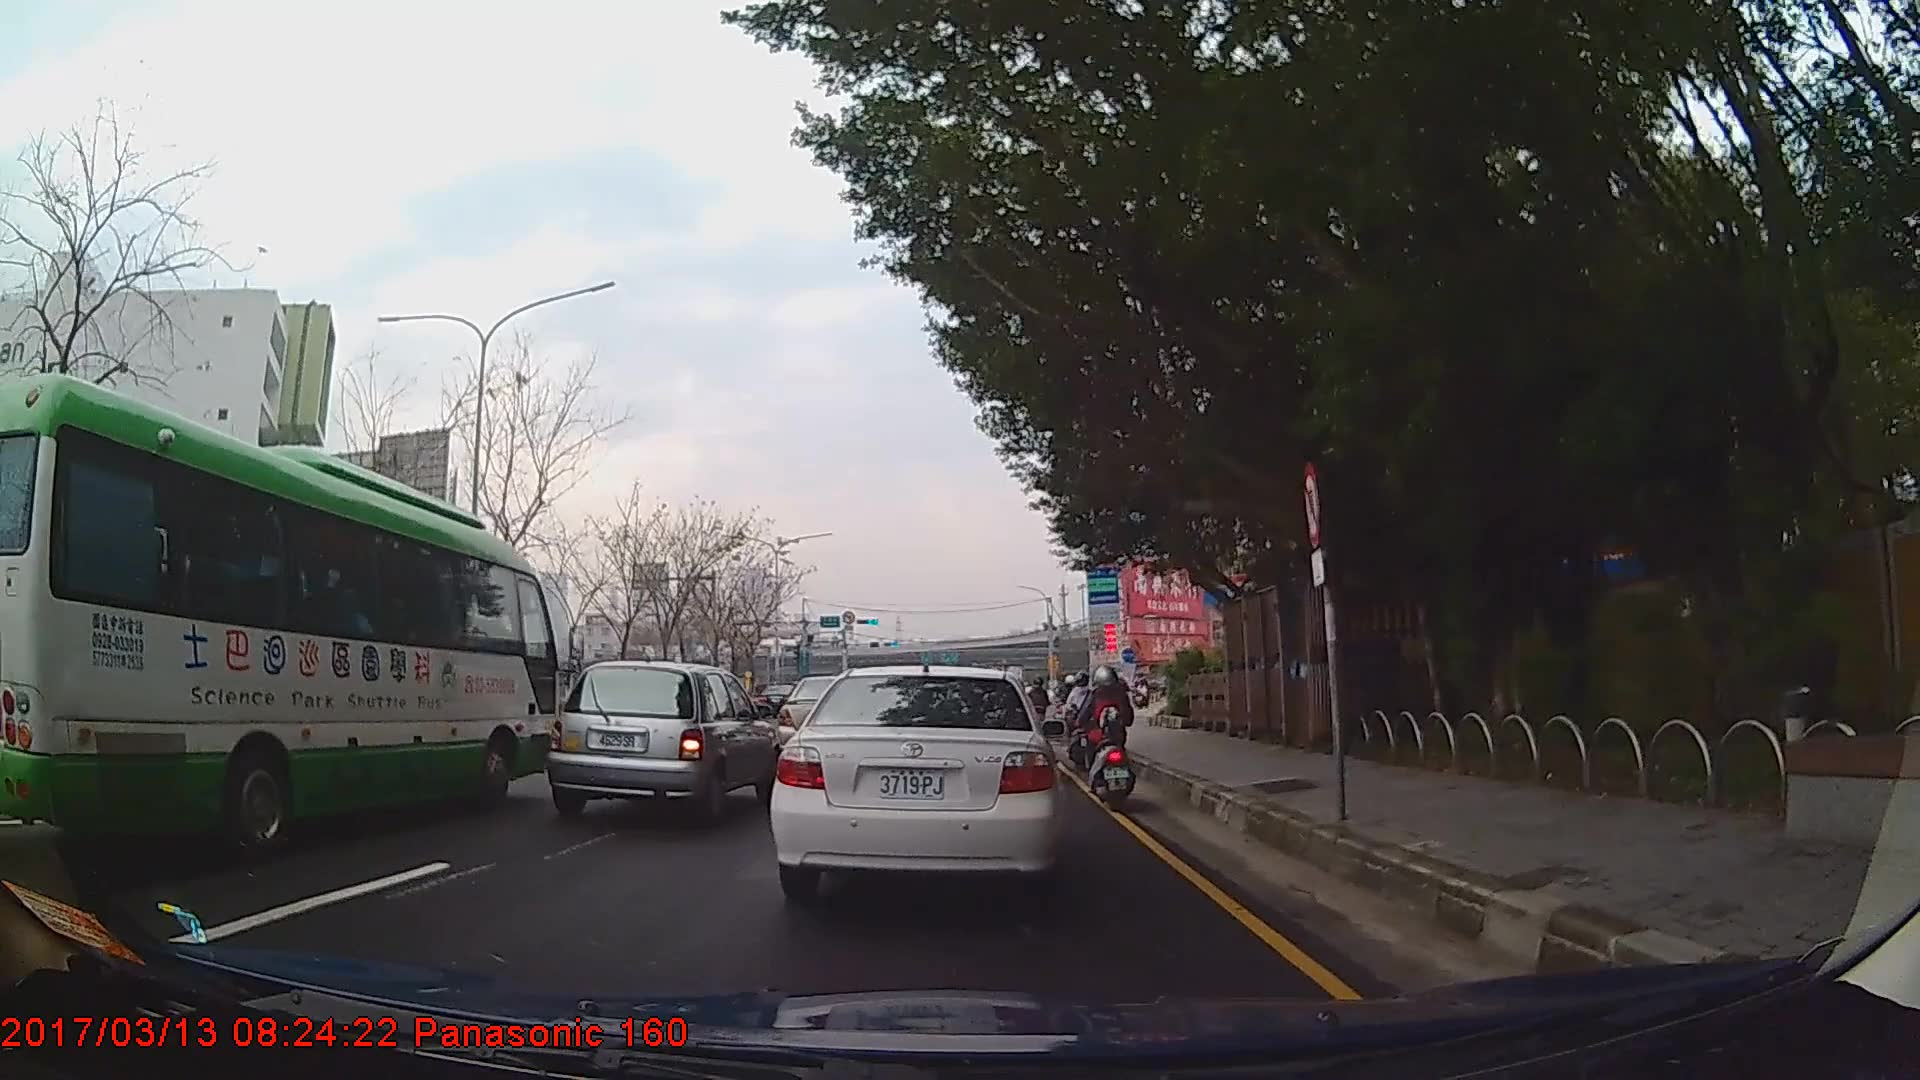rider: (1079, 660, 1135, 812), (1064, 670, 1101, 774), (1027, 675, 1051, 732)
vehicle: (1, 368, 556, 854), (769, 663, 1064, 899), (546, 657, 780, 829), (754, 682, 798, 715)
